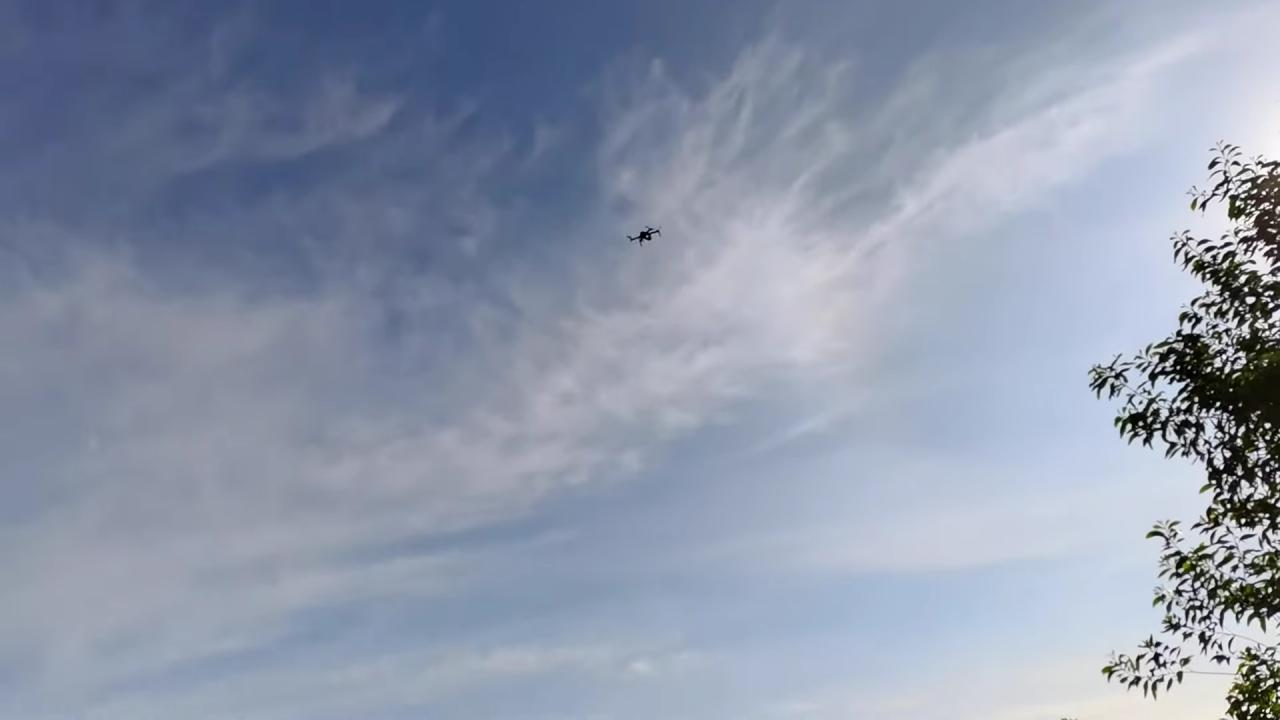Drone: (619, 218, 670, 253)
